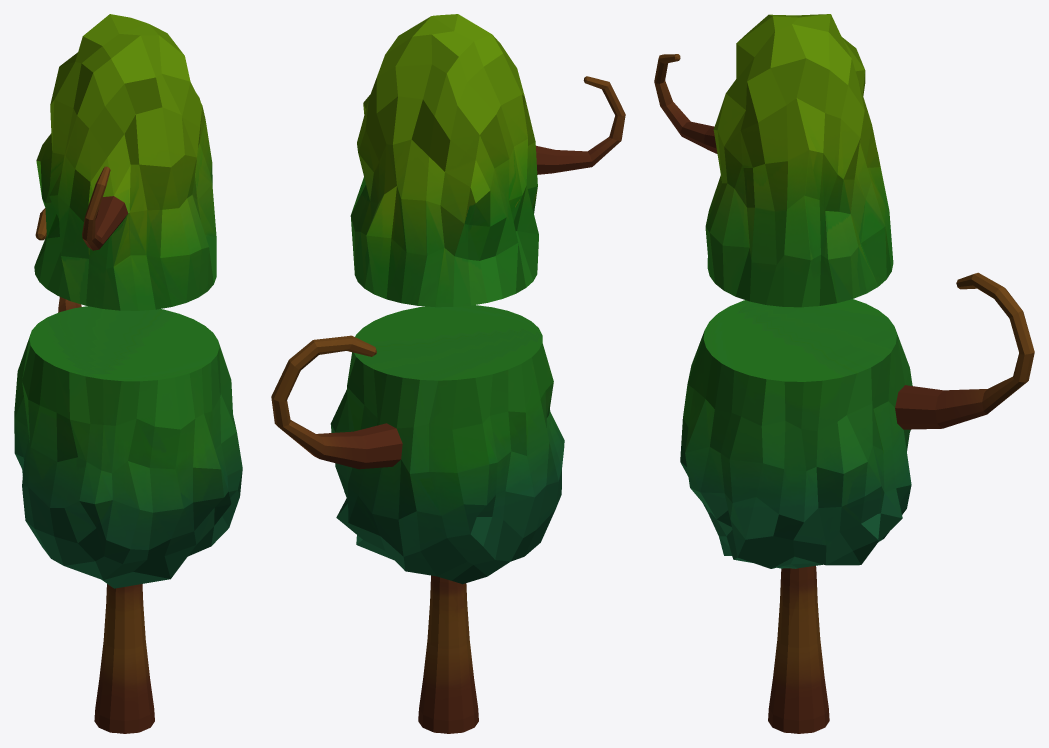
File: SUP_VEG_Tree02.fbx
3 views of the same model, side by side, from view 1: azimuth 30°, elevation 25°; view 2: azimuth 150°, elevation 25°; view 3: azimuth 270°, elevation 25° (orthographic).
Parts seen in each view (by area): view 1: TREE_CANOPY.001, TREE_TRUNK; view 2: TREE_CANOPY.001, TREE_TRUNK; view 3: TREE_CANOPY.001, TREE_TRUNK.
Part boxes in pixels (x1,y1,x2,y2): TREE_CANOPY.001: (14,14,242,588); TREE_TRUNK: (94,584,154,733); TREE_CANOPY.001: (271,14,625,584); TREE_TRUNK: (418,575,478,733); TREE_CANOPY.001: (654,14,1034,568); TREE_TRUNK: (768,566,829,733).
Size of the model in its own units: 237 by 771 by 375.
Materials: 1 (1 with a texture image).
